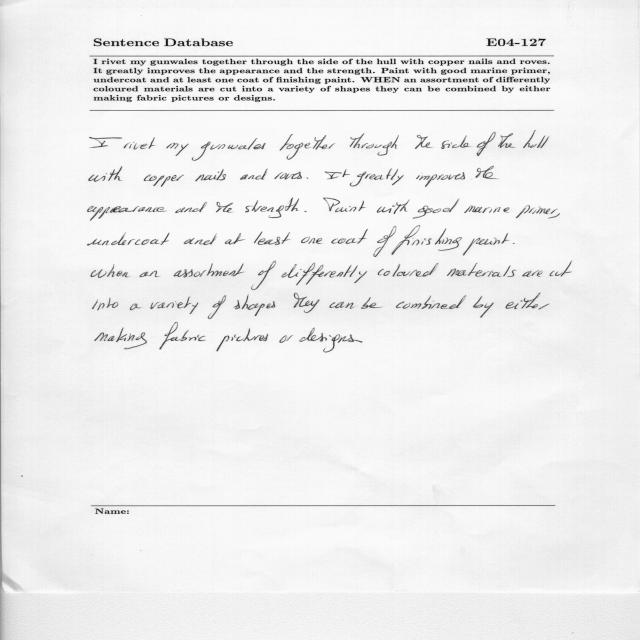word: (391, 225, 462, 255), (282, 263, 367, 285), (192, 138, 266, 161), (280, 134, 336, 160), (159, 322, 206, 350), (217, 329, 269, 352), (88, 206, 167, 221), (95, 327, 147, 349), (349, 134, 399, 156), (245, 198, 299, 218), (88, 233, 170, 246), (173, 263, 244, 278), (463, 233, 509, 256), (299, 328, 340, 353), (396, 295, 466, 309), (447, 263, 516, 277), (413, 199, 459, 219), (350, 169, 403, 186), (234, 295, 275, 316), (378, 263, 438, 277), (151, 297, 199, 314), (506, 293, 550, 310), (416, 172, 465, 187), (251, 261, 276, 290), (374, 226, 397, 257), (323, 198, 366, 212), (331, 229, 368, 244), (91, 264, 129, 278), (89, 166, 122, 182), (144, 174, 184, 187), (294, 293, 320, 313), (254, 231, 290, 245), (377, 200, 410, 214), (473, 296, 494, 318), (523, 131, 550, 148), (477, 132, 496, 156), (516, 206, 550, 219), (208, 295, 226, 319), (124, 137, 156, 150), (441, 135, 470, 149), (184, 233, 217, 245), (195, 169, 226, 181), (465, 206, 510, 214), (90, 137, 122, 148), (175, 202, 207, 213), (93, 298, 119, 311), (550, 261, 572, 276), (240, 169, 268, 180), (166, 143, 189, 156), (476, 166, 498, 179), (498, 133, 515, 148), (325, 169, 350, 179), (361, 297, 381, 309), (415, 135, 432, 149), (225, 233, 244, 245), (338, 334, 363, 343), (274, 172, 302, 180), (329, 302, 354, 309), (216, 202, 233, 212), (301, 237, 322, 244), (522, 270, 543, 277), (548, 209, 560, 219), (140, 271, 160, 277), (280, 335, 294, 343), (130, 304, 142, 311), (307, 177, 309, 179), (305, 211, 307, 212), (513, 243, 515, 244)
